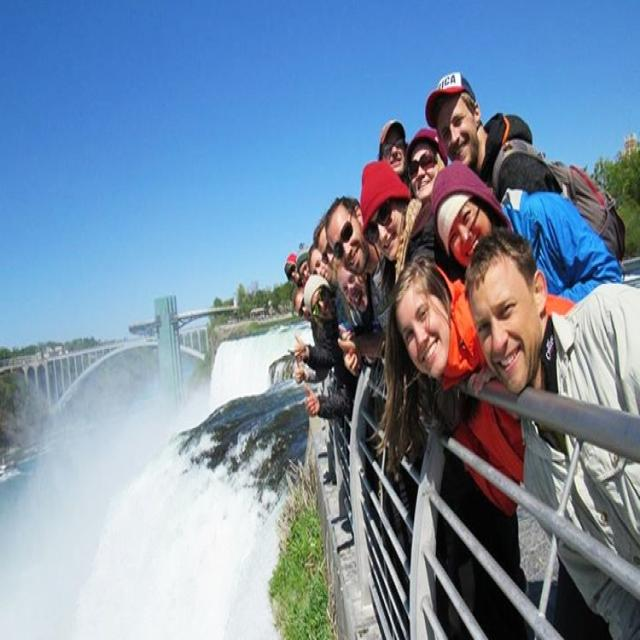body: (463, 226, 640, 640), (368, 247, 578, 520), (427, 153, 629, 325), (270, 223, 368, 435), (426, 68, 566, 209), (356, 157, 438, 346), (322, 192, 398, 360), (372, 109, 445, 195)
